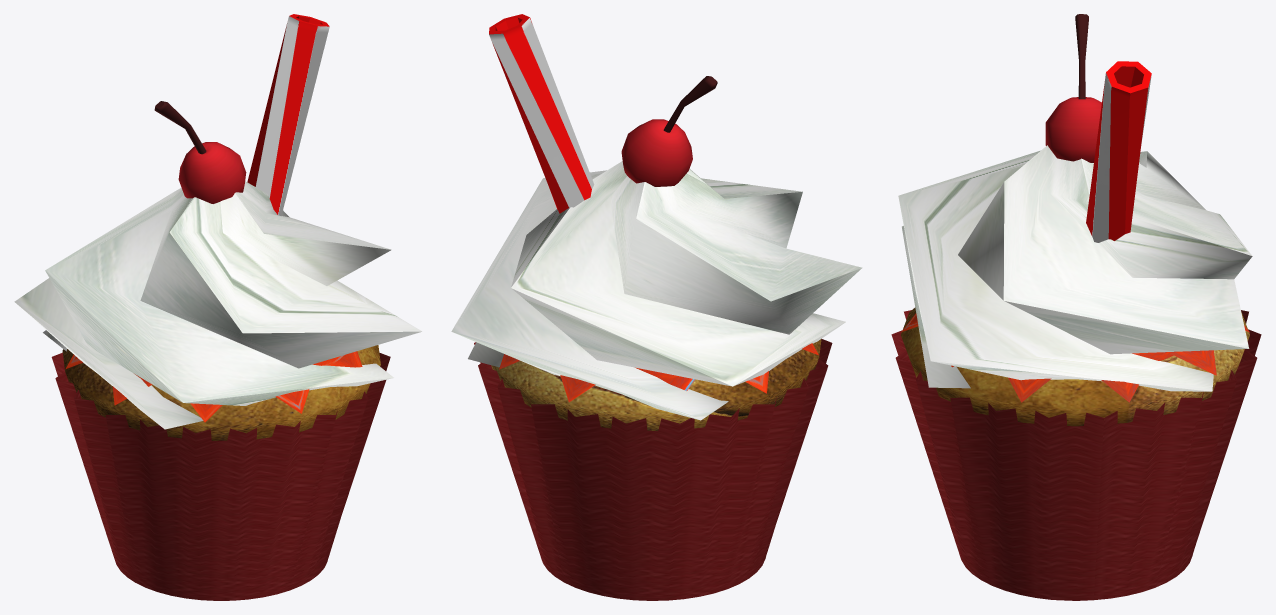
File: cupcake.fbx
3 renders of one model, left to right at view 1: azimuth 30°, elevation 25°; view 2: azimuth 150°, elevation 25°; view 3: azimuth 270°, elevation 25°, orthographic. The views are drawn at different scales.
Parts seen in each view (by area): view 1: pCube1, pCylinder2, pasted__pasted__pPipe1, pasted__pSphere1, polySurface2, pSphere1, polySurface3; view 2: pCube1, pCylinder2, pasted__pasted__pPipe1, pasted__pSphere1, polySurface2, pSphere1, polySurface3; view 3: pCube1, pCylinder2, pasted__pSphere1, pasted__pasted__pPipe1, polySurface2, pSphere1, polySurface3.
Part boxes in pixels (box(x1,y1,x2,y2)): pCube1: box(14, 181, 422, 429); pCylinder2: box(51, 352, 390, 600); pasted__pasted__pPipe1: box(247, 14, 329, 215); pasted__pSphere1: box(62, 345, 380, 440); polySurface2: box(178, 142, 246, 203); pSphere1: box(65, 351, 362, 422); polySurface3: box(154, 101, 206, 154); pCube1: box(451, 161, 862, 420); pCylinder2: box(474, 339, 832, 600); pasted__pasted__pPipe1: box(489, 14, 594, 213); pasted__pSphere1: box(491, 339, 821, 430); polySurface2: box(621, 119, 692, 186); pSphere1: box(499, 343, 818, 402); polySurface3: box(663, 76, 717, 132); pCube1: box(898, 145, 1252, 391); pCylinder2: box(891, 310, 1261, 600); pasted__pSphere1: box(901, 307, 1249, 426); pasted__pasted__pPipe1: box(1086, 61, 1151, 242); polySurface2: box(1045, 97, 1101, 162); pSphere1: box(901, 313, 1249, 402); polySurface3: box(1075, 14, 1088, 99).
Size of the model in its own units: 2.24 by 3.64 by 2.25.
